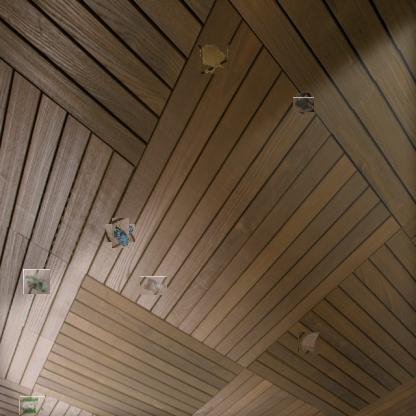dirty: (23, 269, 50, 294), (108, 221, 132, 245), (139, 276, 167, 295), (19, 396, 45, 415), (298, 332, 320, 354)
liquid: (200, 44, 228, 72), (294, 95, 313, 114)
